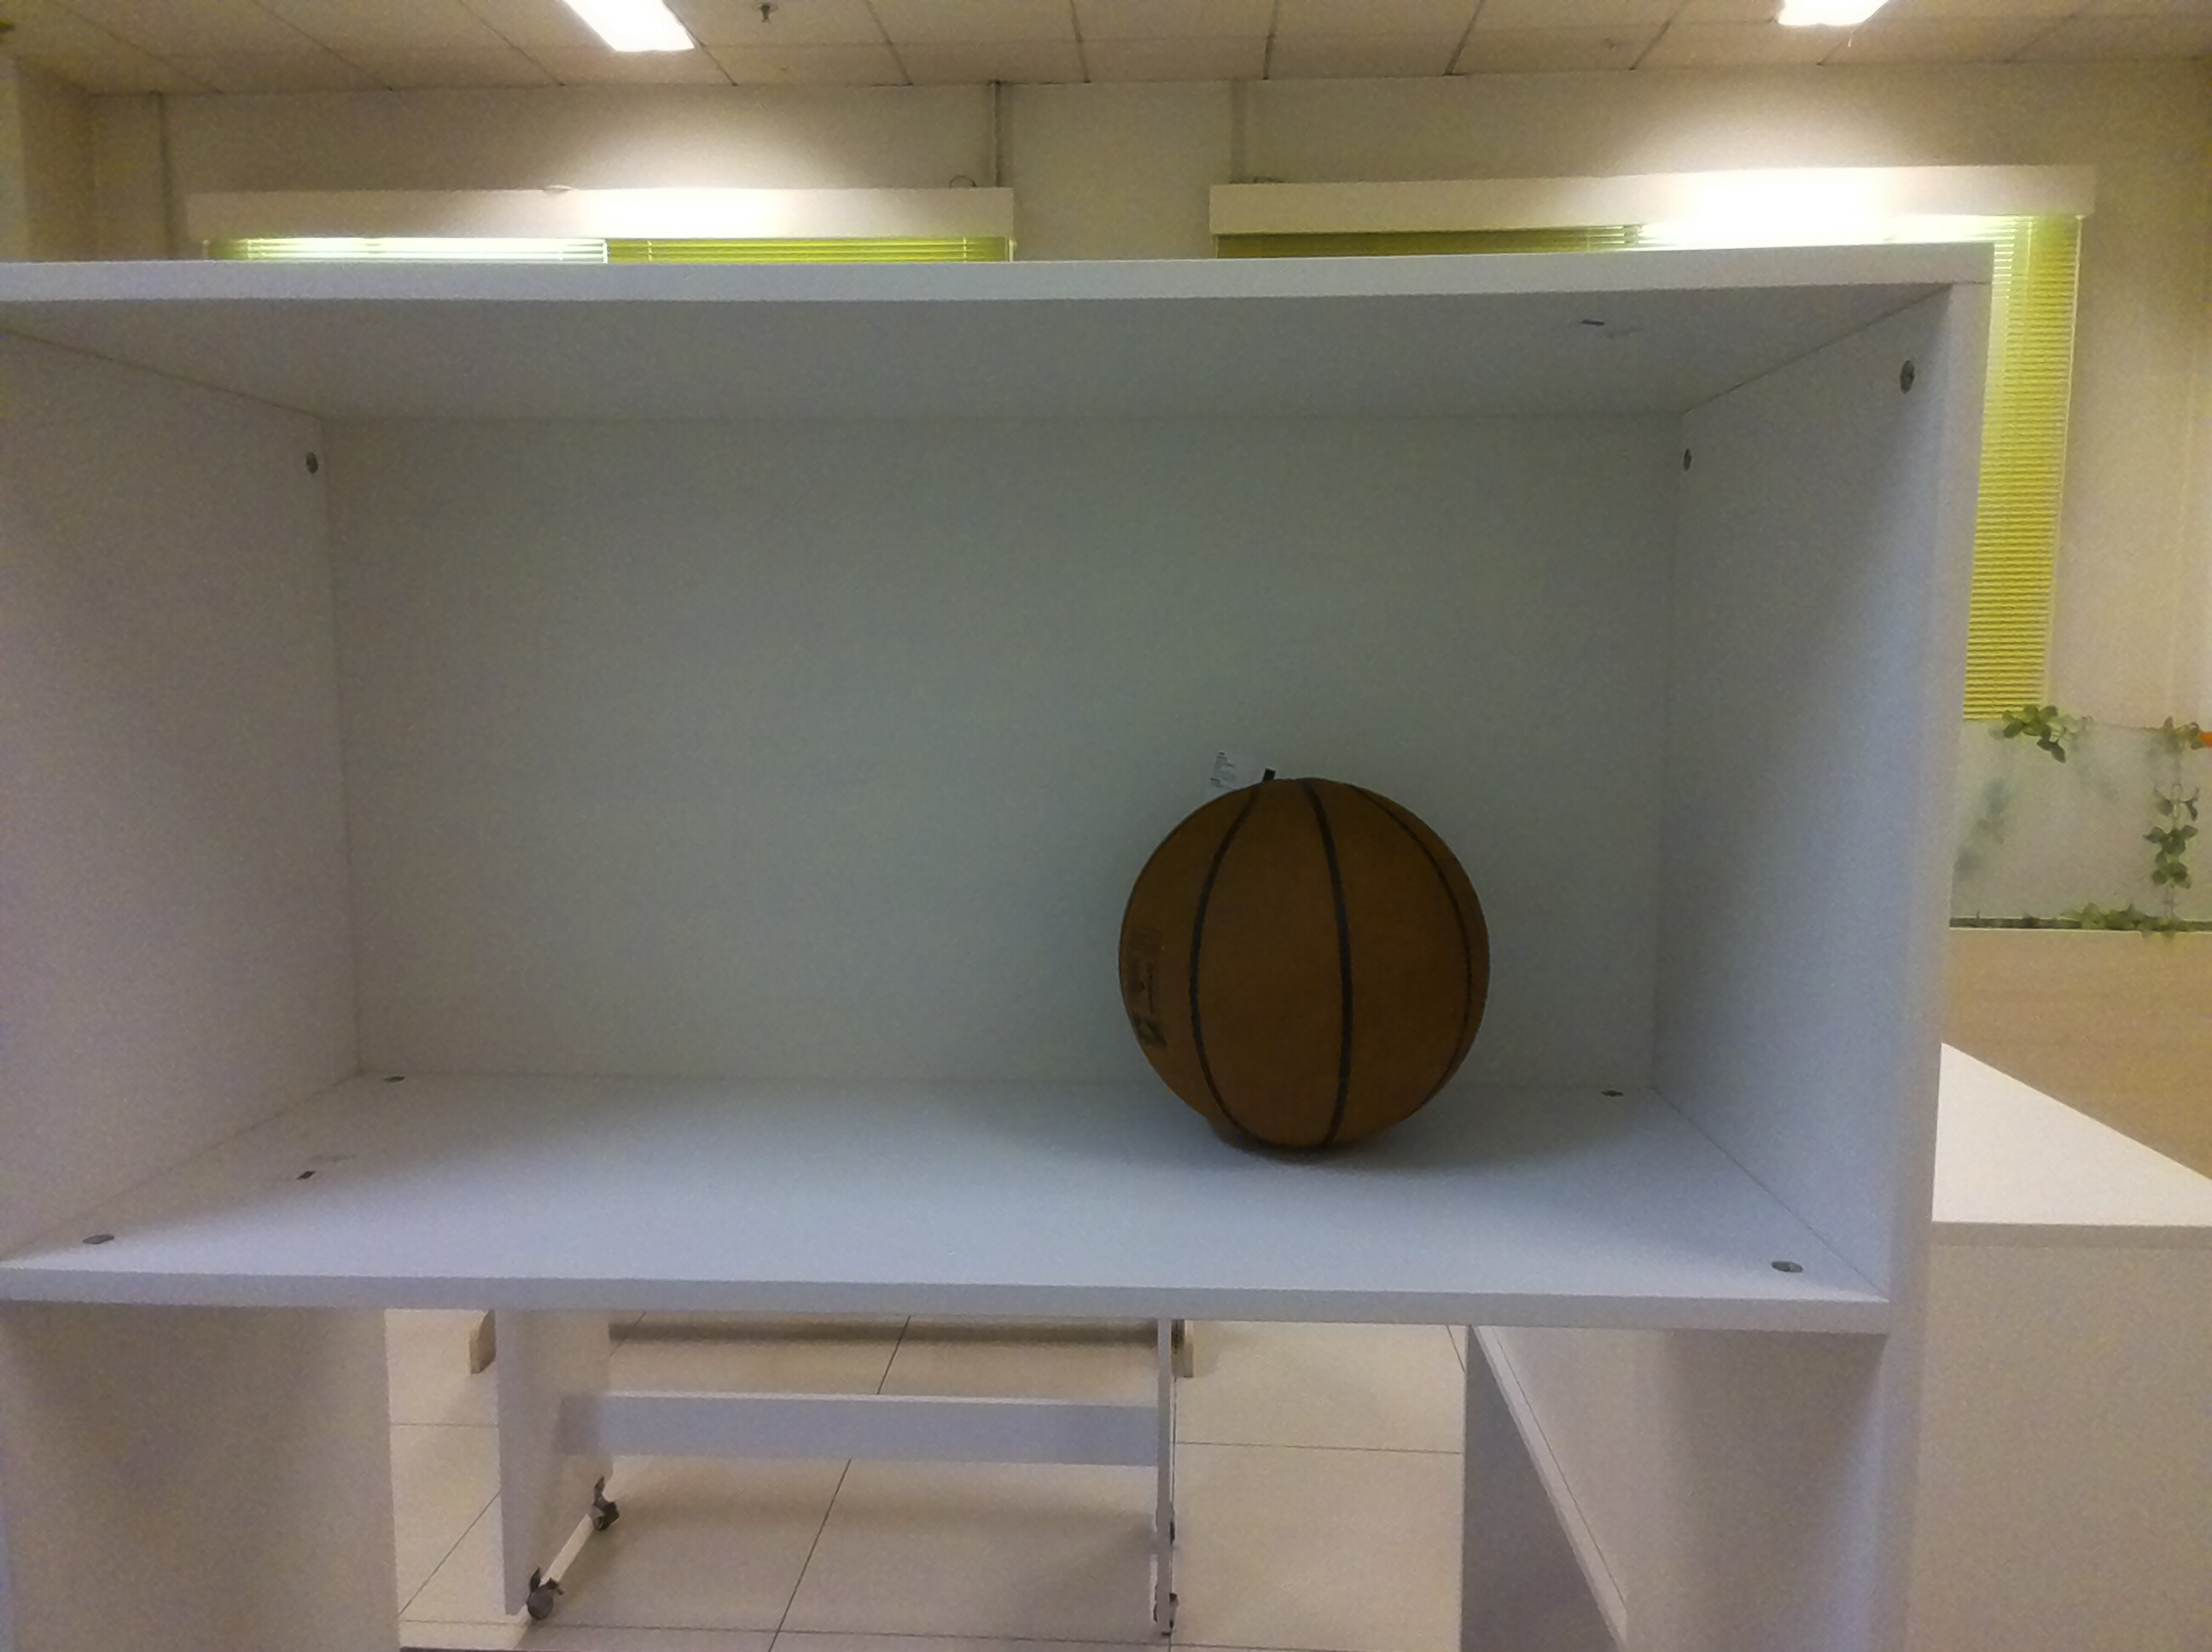basketball: (1117, 758, 1508, 1168)
